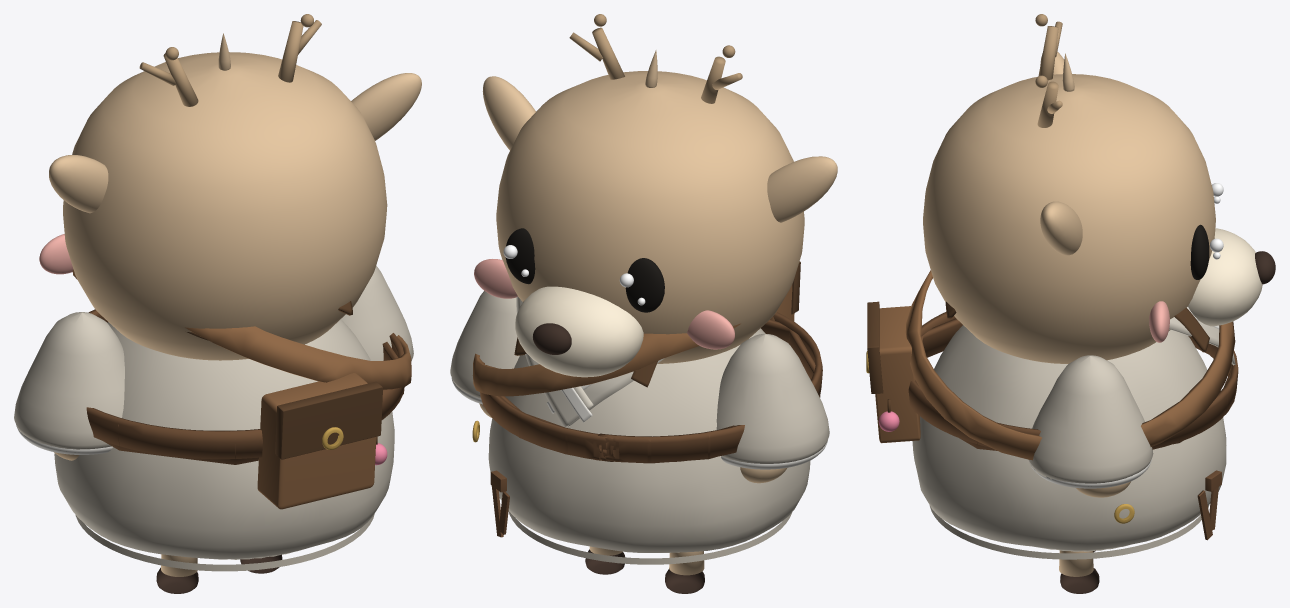
File: maumon-deerdeer-lite.glb
3 renders of one model, left to right at view 1: azimuth 30°, elevation 25°; view 2: azimuth 150°, elevation 25°; view 3: azimuth 270°, elevation 25°, orthographic. The views are drawn at different scales.
Visible parts, largest first — view 1: head, robe, sleeveL, pack, belt, chestStrap, flap, sleeveR, earR, earL, hem, cheekL (+4 smaller); view 2: head, robe, sleeveL, belt, muzzle, chestStrap, sleeveR, earL, earR, hem, eyeL, cheekL (+12 smaller); view 3: head, robe, sleeveR, chestStrap, muzzle, belt, pack, hem, earR, flap, eyeR, strapR (+7 smaller).
Boxes of the visible parts, x1,y1,x2,y2 form: head: (63, 52, 387, 360); robe: (54, 319, 394, 559); sleeveL: (14, 312, 124, 449); pack: (257, 373, 376, 509); belt: (86, 309, 404, 464); chestStrap: (72, 269, 411, 389); flap: (275, 381, 382, 459); sleeveR: (341, 265, 413, 360); earR: (351, 73, 421, 140); earL: (49, 155, 108, 213); hem: (75, 514, 374, 571); cheekL: (39, 234, 73, 274); head: (496, 71, 804, 363); robe: (488, 328, 810, 552); sleeveL: (716, 334, 829, 463); belt: (480, 312, 822, 463); muzzle: (515, 286, 643, 377); chestStrap: (472, 323, 740, 396); sleeveR: (450, 290, 519, 398); earL: (767, 156, 837, 222); earR: (482, 76, 535, 150); hem: (508, 511, 791, 564); eyeL: (625, 258, 664, 312); cheekL: (687, 310, 734, 349); head: (923, 74, 1215, 363); robe: (912, 325, 1226, 551); sleeveR: (1028, 355, 1153, 483); chestStrap: (905, 270, 1235, 460); muzzle: (1188, 228, 1262, 326); belt: (908, 312, 1238, 450); pack: (875, 306, 920, 443); hem: (929, 505, 1209, 559); earR: (1040, 201, 1082, 255); flap: (867, 301, 883, 393); eyeR: (1190, 224, 1209, 279); strapR: (945, 301, 1209, 352).
Bounding box in the file's own units: 1.18 × 1.67 × 1.18.
